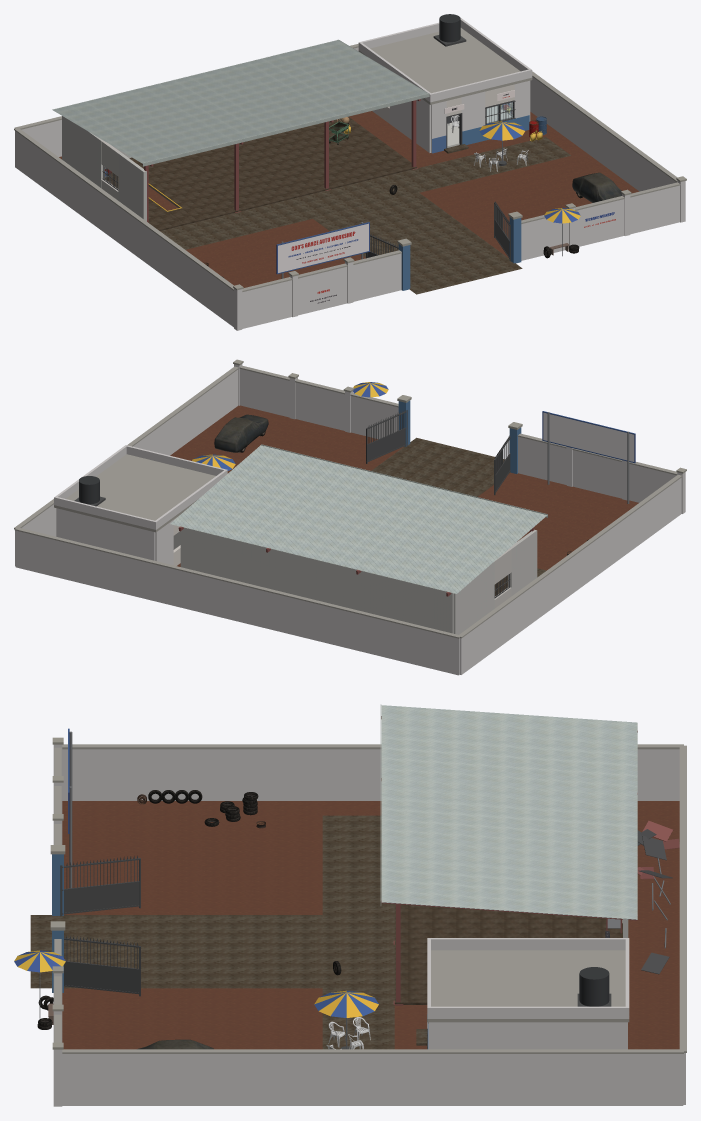
Rendered from set_gra_garage.glb.
The picture shows the model from 3 angles, top to bottom: view 1: azimuth 30°, elevation 25°; view 2: azimuth 150°, elevation 25°; view 3: azimuth 270°, elevation 25°; orthographic projection. The views are drawn at different scales.
Parts seen in each view (by area): view 1: GR_set_gra_garage, GD_set_gra_garage; view 2: GR_set_gra_garage, GD_set_gra_garage; view 3: GR_set_gra_garage, GD_set_gra_garage.
Part boxes in pixels (x1,y1,x2,y2): GR_set_gra_garage: (14,17,685,330); GD_set_gra_garage: (101,14,686,303); GR_set_gra_garage: (14,364,685,675); GD_set_gra_garage: (74,359,686,608); GR_set_gra_garage: (30,704,686,1106); GD_set_gra_garage: (14,728,679,1049).
Size of the model in its own units: 30.46 by 6.31 by 27.98.
32 materials, 27 textured.
